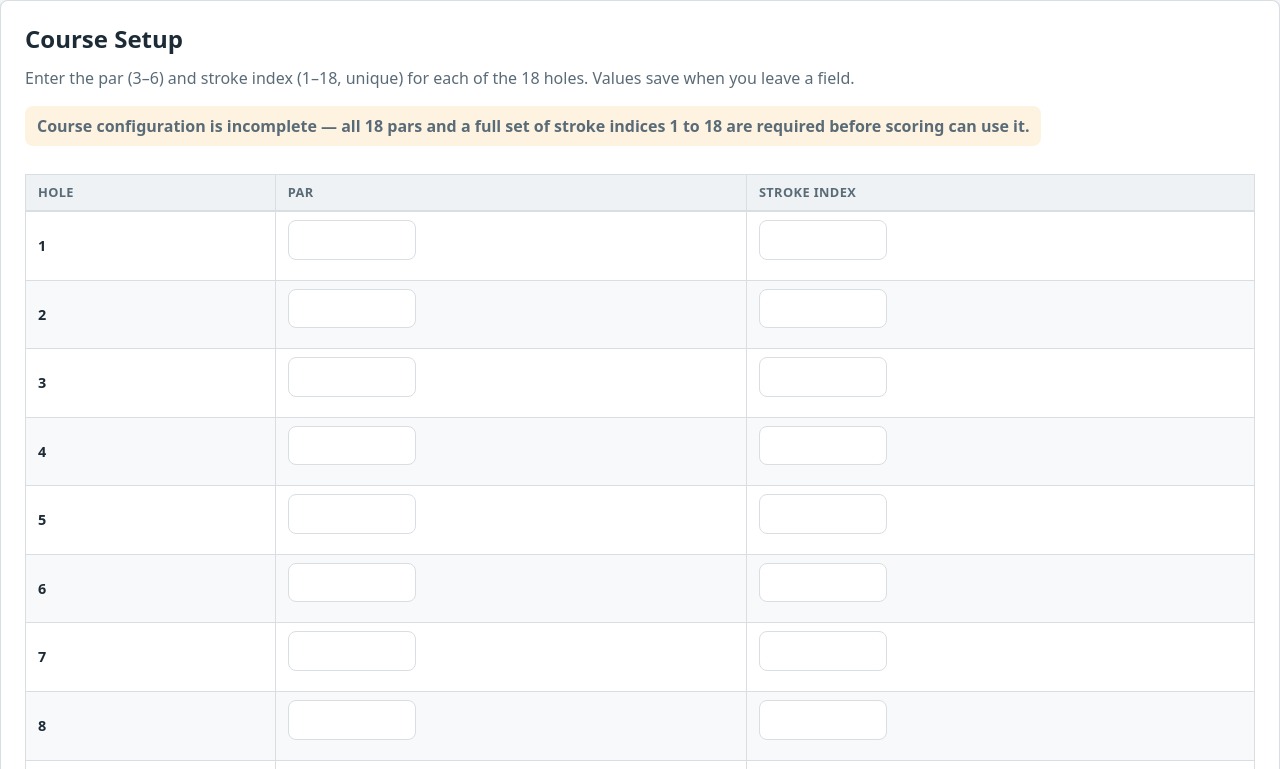
Test: CourseSetupScreen › saves a valid par and shows a save confirmation (1.2, 1.6)
This screenshot has width=1280, height=769.
Step 1. Type "4" into the number field named "Par for hole 1" → (352, 240), box [288,220,416,260]
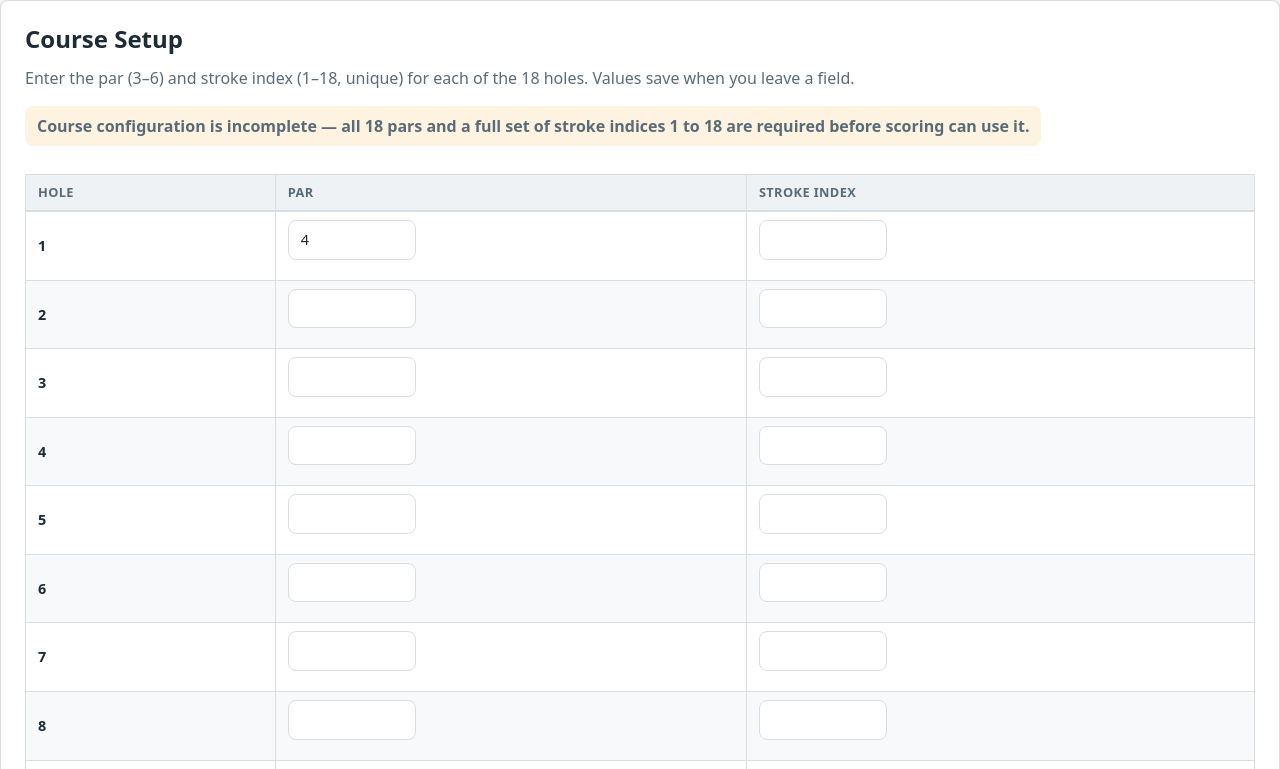
Step 2. Leave the number field named "Par for hole 1", box [288,220,416,260]
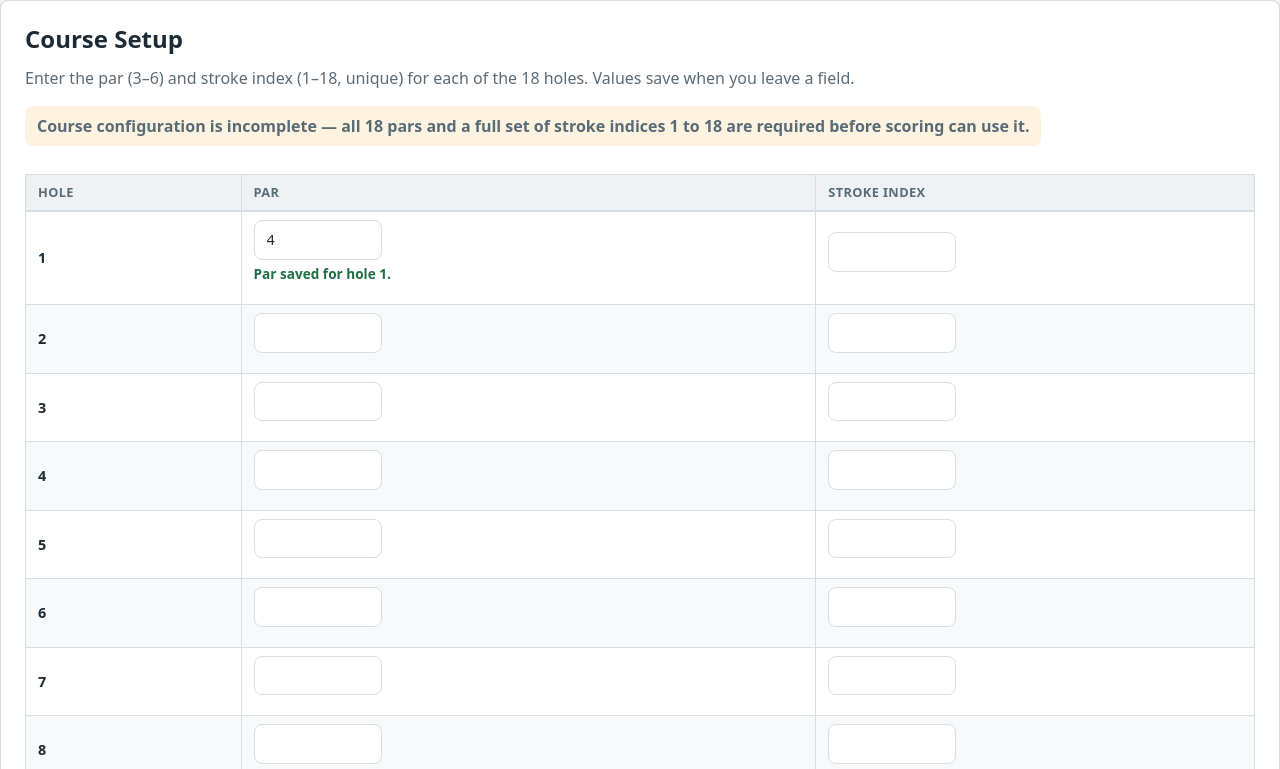
expect the text "Par saved for hole 1." is shown: met, box [254,264,391,283]
